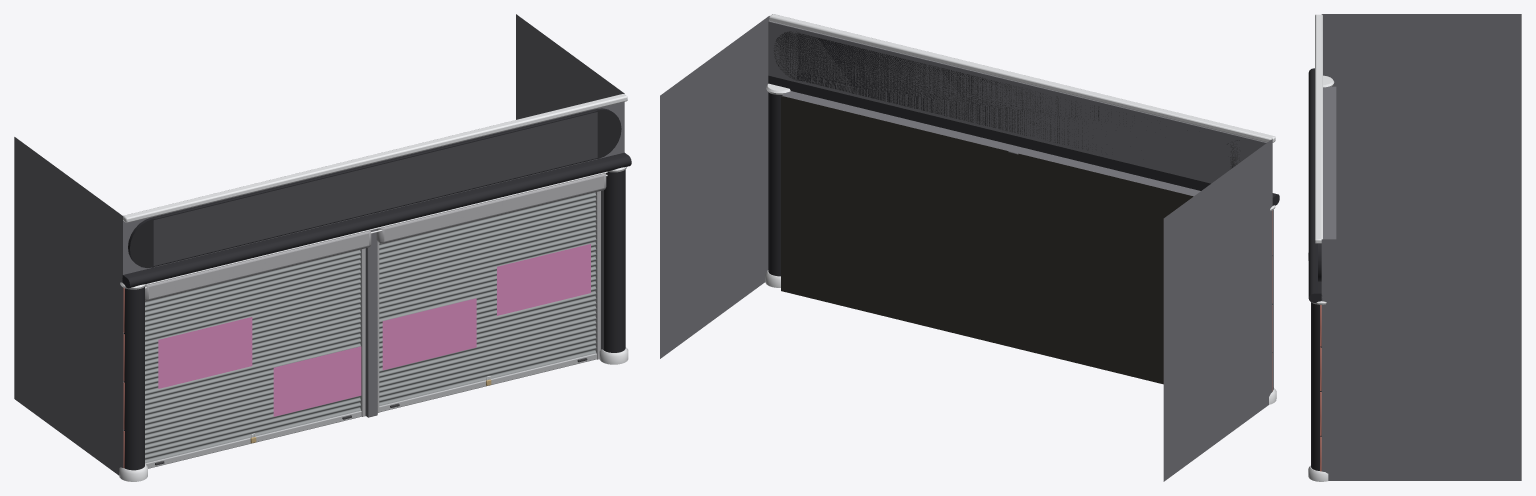
File: retro_shuttered_8a.glb
3 renders of one model, left to right at view 1: azimuth 30°, elevation 25°; view 2: azimuth 150°, elevation 25°; view 3: azimuth 270°, elevation 25°, orthographic. The views are drawn at different scales.
Visible parts, largest first — view 1: retro_shuttered_8a; view 2: retro_shuttered_8a; view 3: retro_shuttered_8a.
Part boxes in pixels (x1,y1,x2,y2): retro_shuttered_8a: (14, 14, 631, 481); retro_shuttered_8a: (660, 14, 1279, 481); retro_shuttered_8a: (1308, 14, 1521, 481).
Size of the model in its own units: 8.06 by 4 by 3.2.
